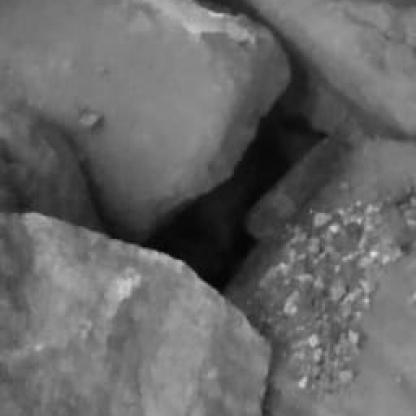cementitious_debris: (2, 2, 414, 413)
